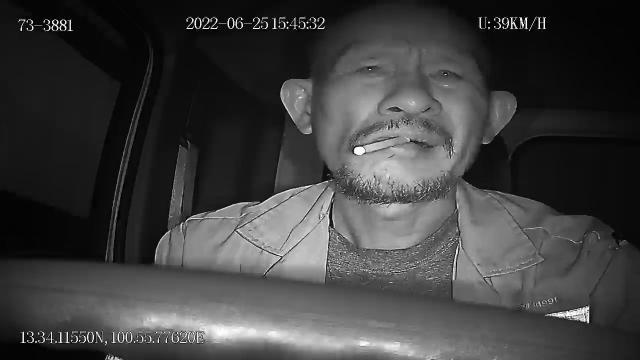SafeDriving: (420, 56, 471, 89), (346, 52, 395, 82)
Smoking: (354, 136, 408, 156)
